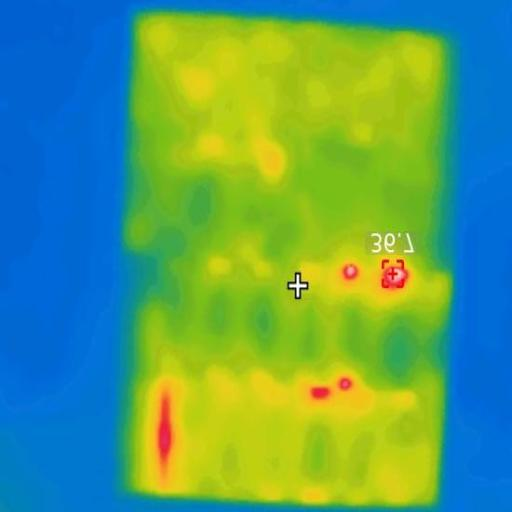hotspot: (154, 386, 178, 457), (380, 258, 410, 290), (310, 382, 334, 401), (343, 261, 364, 280), (339, 379, 353, 393)
